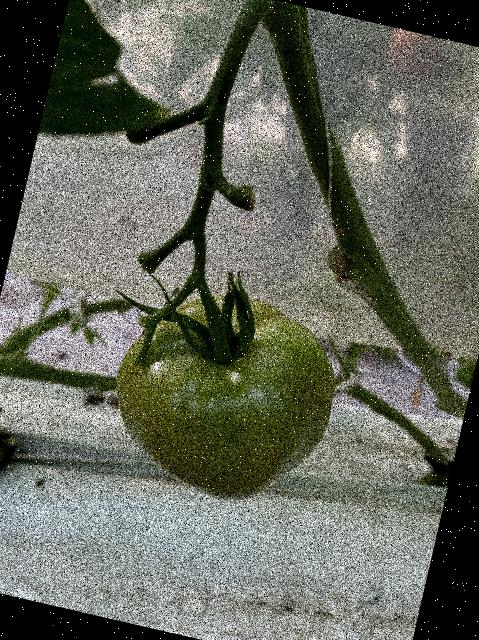b_green: (93, 271, 352, 519)
